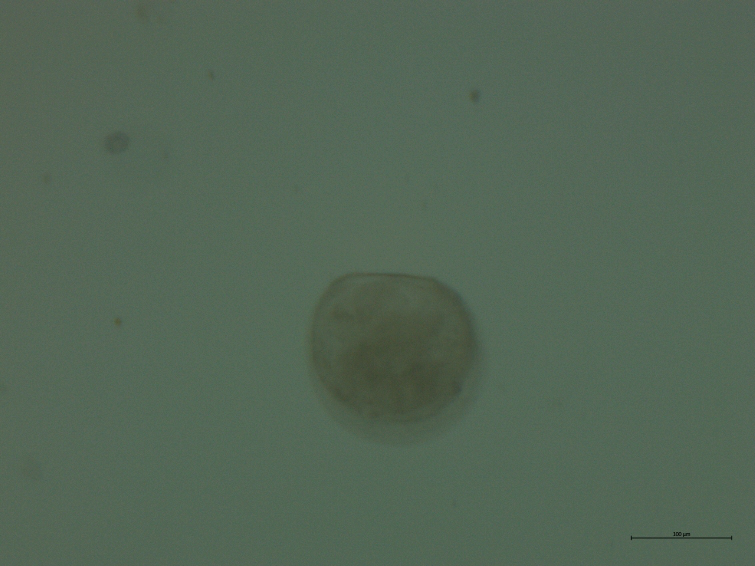oyster: (291, 262, 503, 448)
